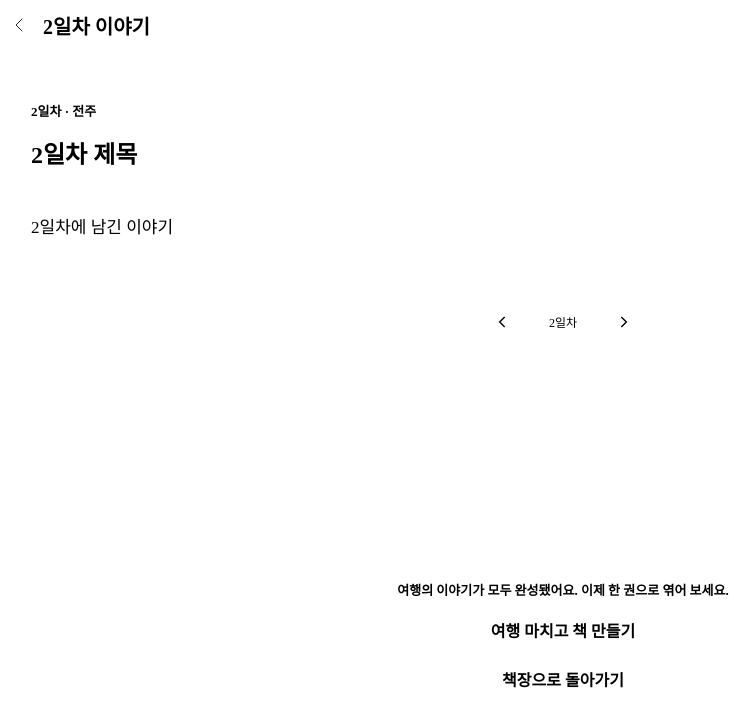
Test: 완성된 이야기 탐색과 마지막 일차 › 뒤로 가지 않아도 이야기 아래에서 이전·다음 일차의 본문으로 이동한다
Click the button named "1일차 이야기": coordinates (503, 322) [481,300,525,344]
Wait 100 ms
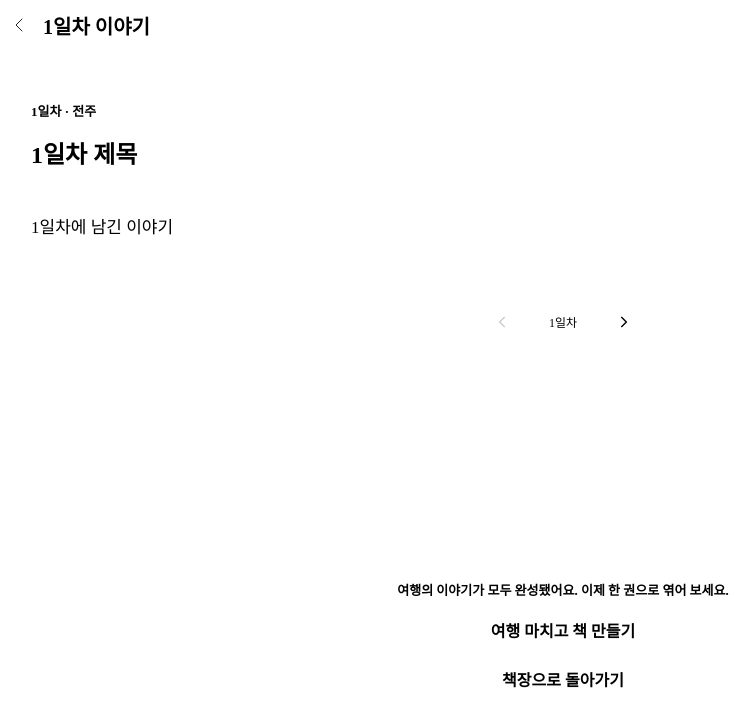
Now the text "1일차에 남긴 이야기" is shown, box [31,218,173,237]
Now the button named "이전 일차" is disabled, box [481,300,525,344]
Click the button named "2일차 이야기": coordinates (623, 322) [601,300,645,344]
Wait 100 ms
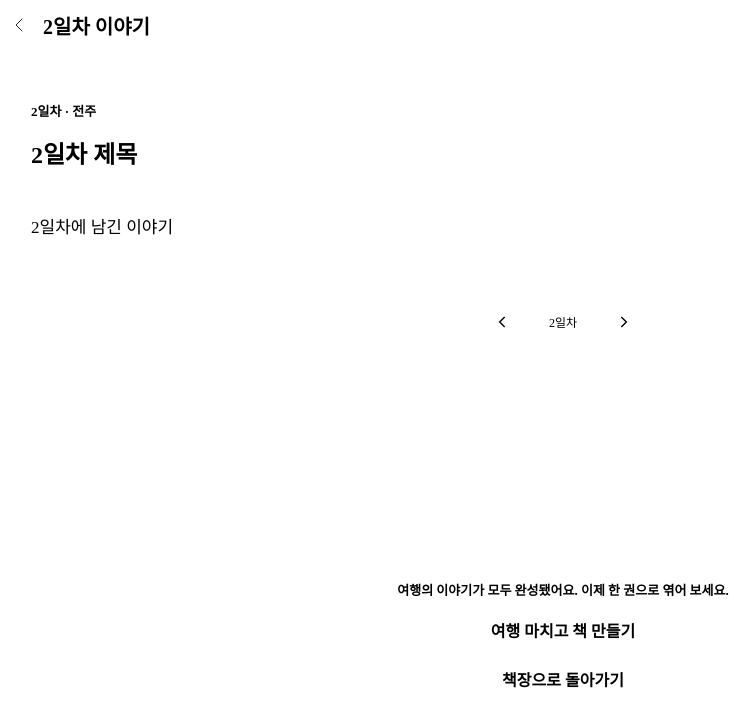
Click the button named "3일차 이야기": coordinates (623, 322) [601,300,645,344]
Wait 100 ms
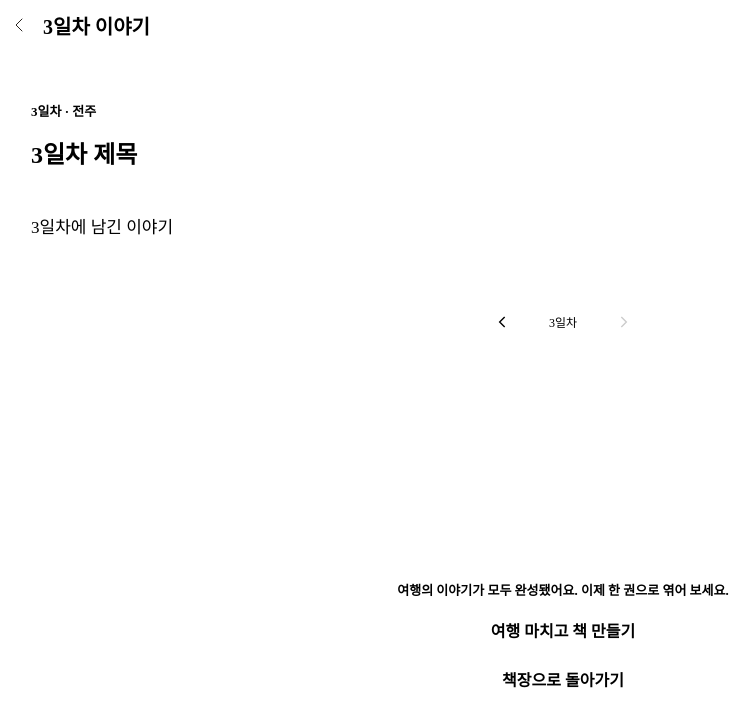
Expected: the button named "2일차 이야기" is empty, [481,300,525,344]
Now the text "3일차에 남긴 이야기" is shown, box [31,218,173,237]
Now the button named "다음 일차" is disabled, box [601,300,645,344]
